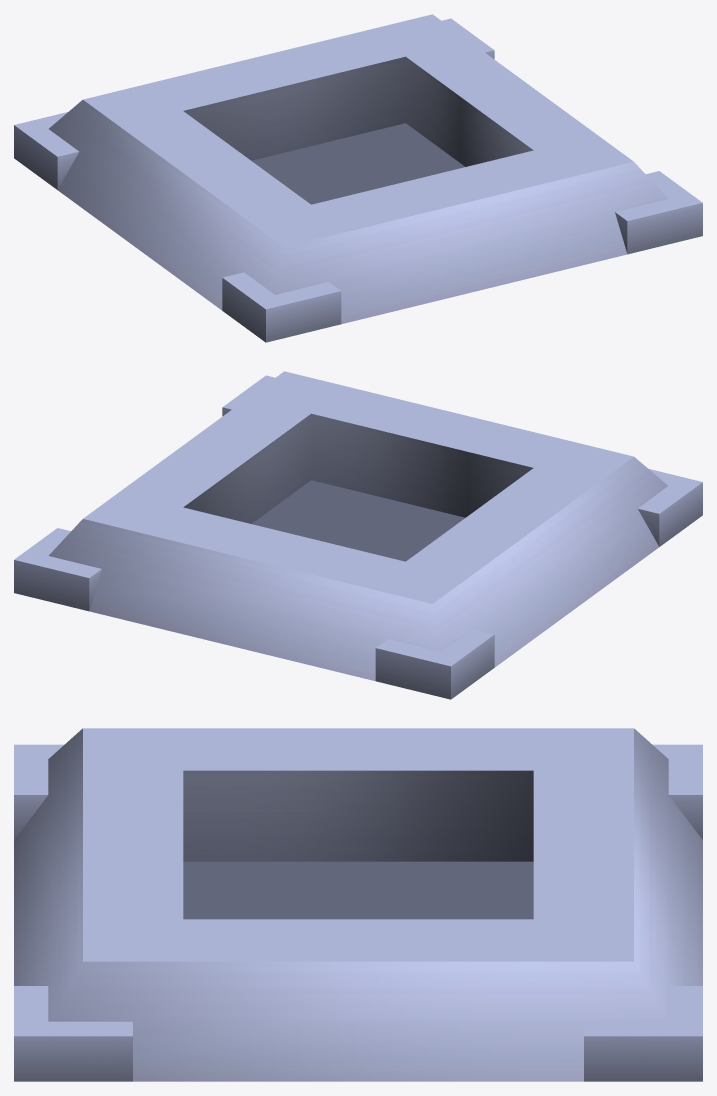
The model's file is kenney-tower-defense-spawn-square.glb.
The picture shows the model from 3 angles, top to bottom: view 1: azimuth 30°, elevation 25°; view 2: azimuth 150°, elevation 25°; view 3: azimuth 270°, elevation 25°; orthographic projection. The views are drawn at different scales.
Visible parts, largest first — view 1: spawn-square; view 2: spawn-square; view 3: spawn-square.
Part boxes in pixels (box(x1,y1,x2,y2)): spawn-square: box(14, 14, 702, 342); spawn-square: box(14, 371, 702, 699); spawn-square: box(14, 728, 702, 1081).
Size of the model in its own units: 0.6875 by 0.1 by 0.6862.
1 material, 1 textured.
